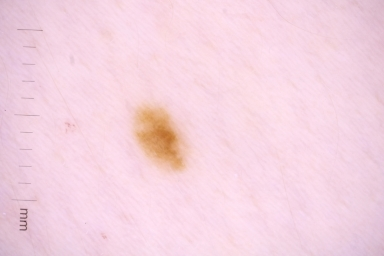nevus: (134, 104, 188, 175)
